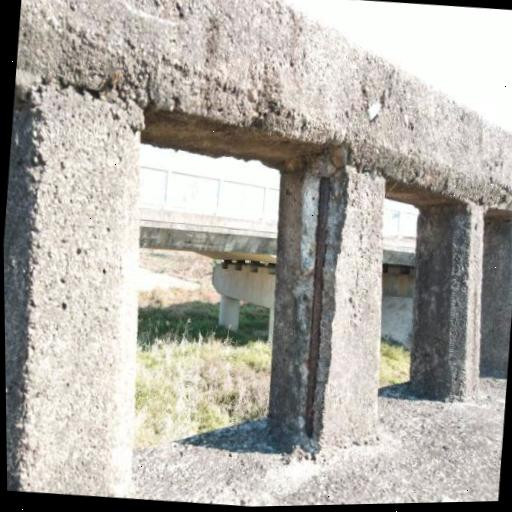exposed_rebar: (304, 176, 330, 437)
spalling: (295, 171, 344, 439)
